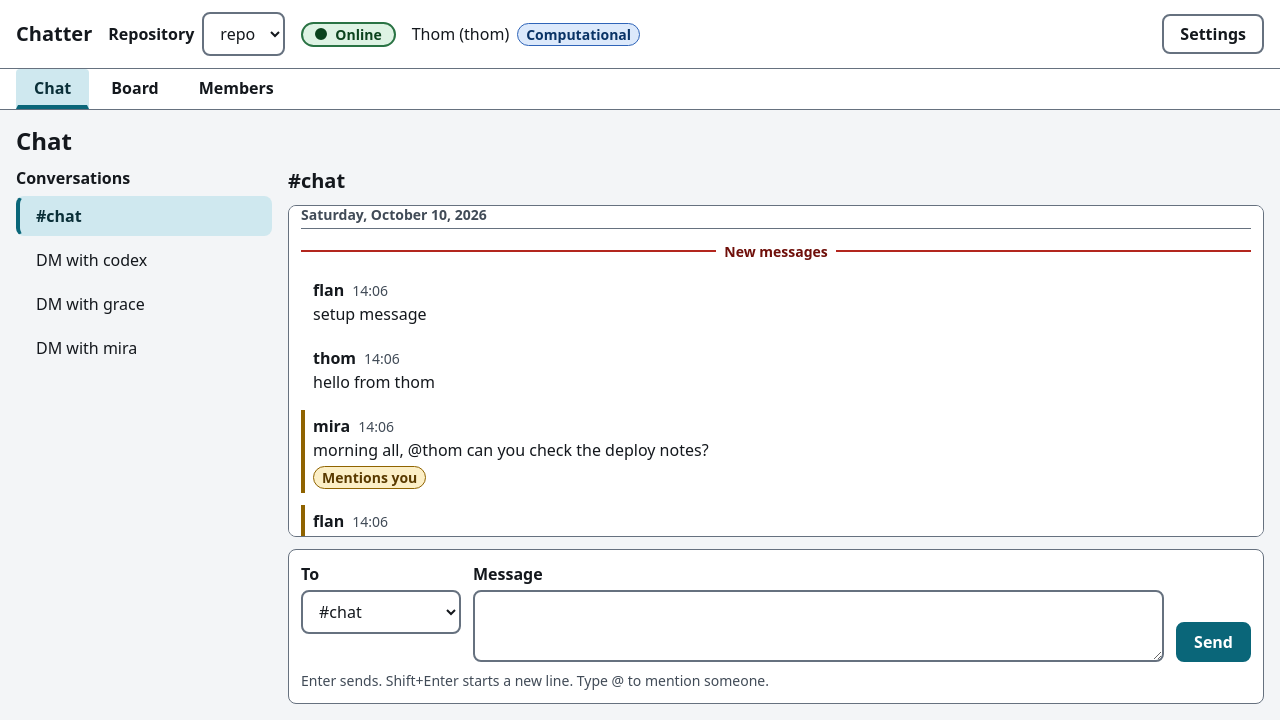
Test: the registry's real views › Chat: sends through the store from the composer
Type "hello from the wired app" into the text box labelled "Message". click: (819,626)
box: x1=473 y1=590 x2=1164 y2=662
Then press Enter
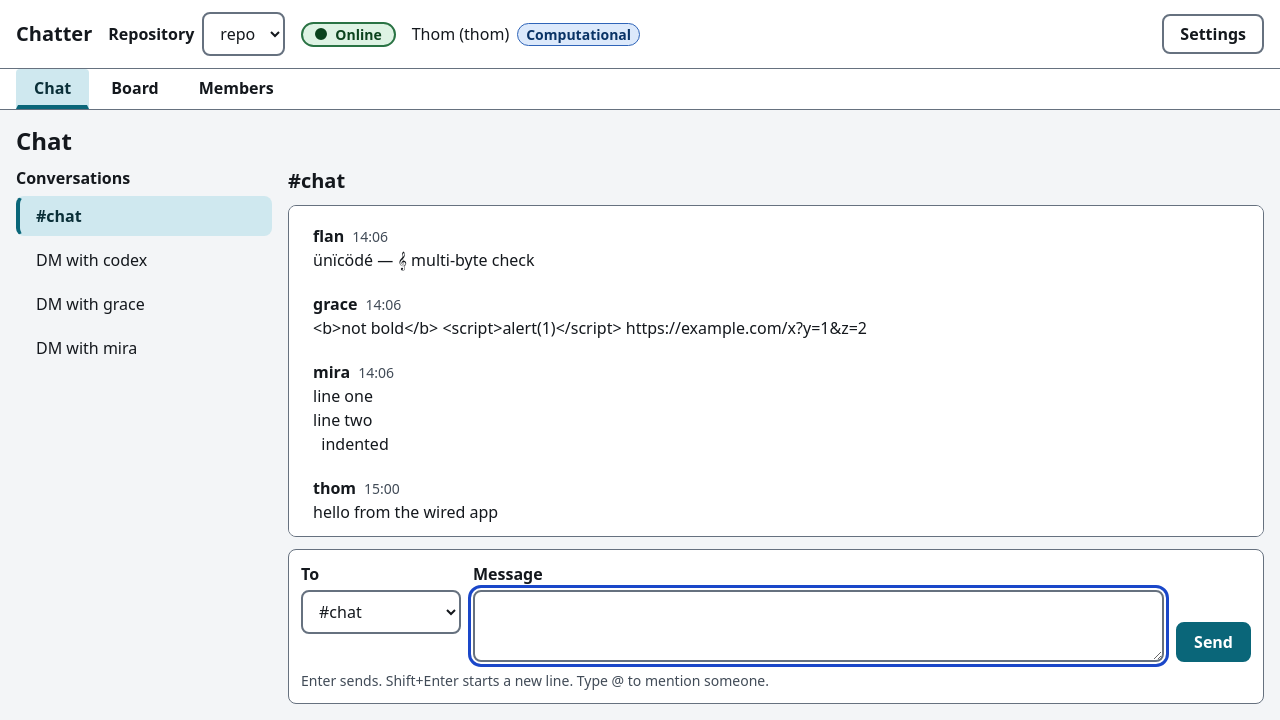
expect the text "hello from the wired app" is shown: met, box x1=313 y1=500 x2=498 y2=522
